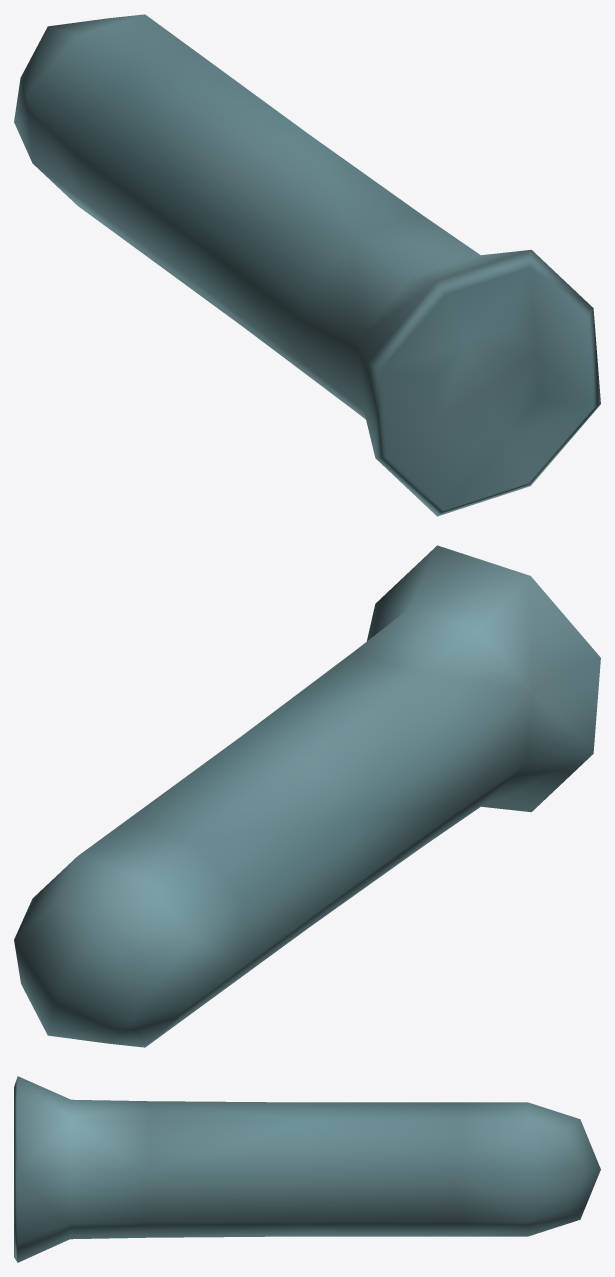
File: TinyStalagmite.003.glb
The picture shows the model from 3 angles, top to bottom: view 1: azimuth 30°, elevation 25°; view 2: azimuth 150°, elevation 25°; view 3: azimuth 270°, elevation 25°; orthographic projection. The views are drawn at different scales.
Visible parts, largest first — view 1: TinyStalagmite.003; view 2: TinyStalagmite.003; view 3: TinyStalagmite.003.
Part boxes in pixels (x1,y1,x2,y2): TinyStalagmite.003: (14,14,600,516); TinyStalagmite.003: (14,545,600,1047); TinyStalagmite.003: (14,1076,600,1262).
Size of the model in its own units: 244 by 244 by 778.
